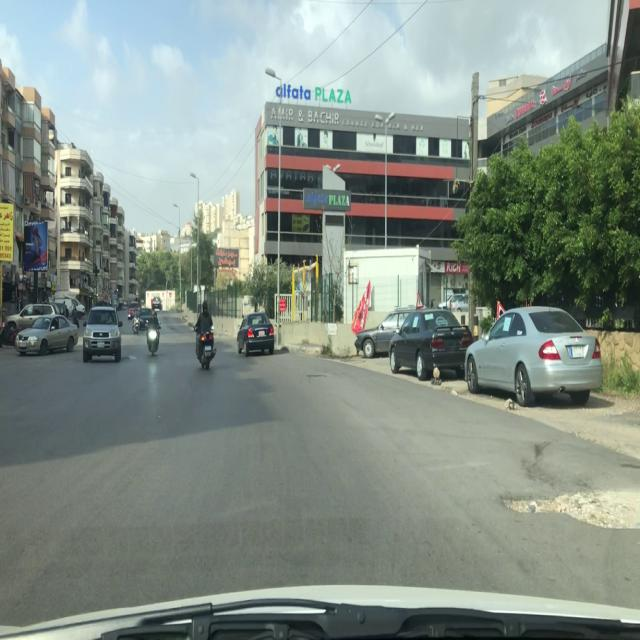Pothole: (498, 480, 640, 534), (305, 373, 329, 378)
